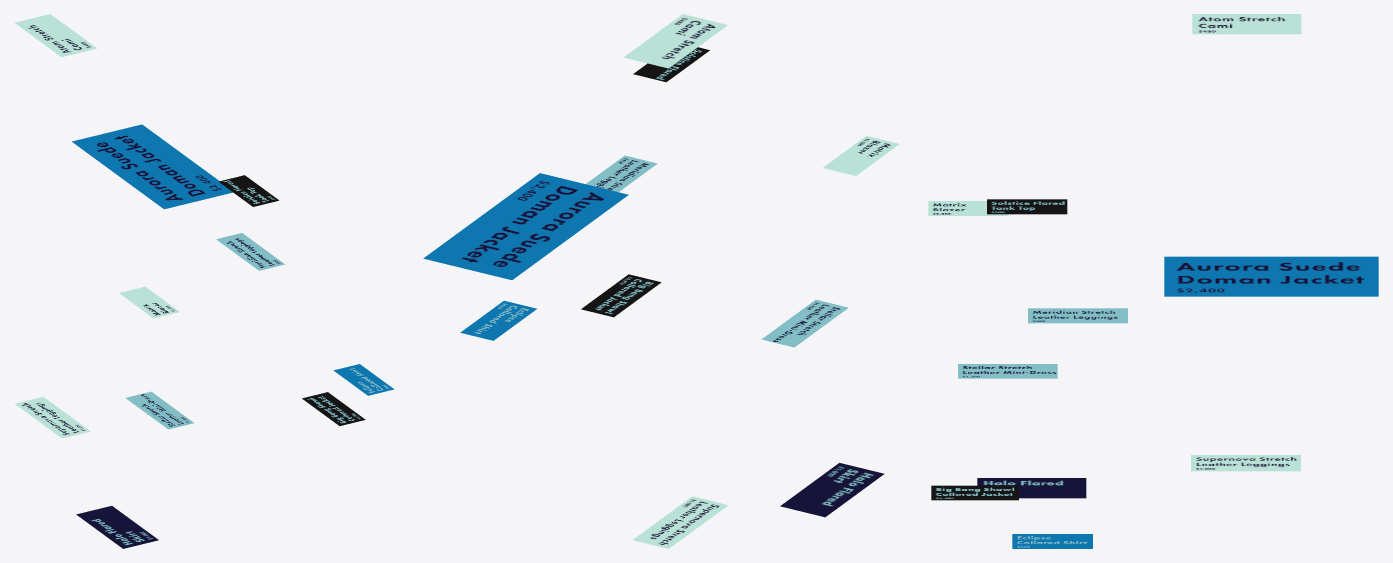
The model's file is Look Labels.fbx.
3 views of the same model, side by side, from view 1: azimuth 30°, elevation 25°; view 2: azimuth 150°, elevation 25°; view 3: azimuth 270°, elevation 25° (orthographic). The views are drawn at different scales.
Visible parts, largest first — view 1: L1_1, L2_1, L1_2, L1_3, L4_1, L3_3, L4_2, L3_1, L2_2, L3_2; view 2: L1_1, L2_1, L1_2, L1_3, L4_1, L4_2, L2_2, L3_1, L3_3, L3_2; view 3: L1_1, L1_2, L1_3, L2_1, L3_3, L4_1, L4_2, L3_2, L2_2, L3_1.
Boxes of the visible parts, x1,y1,x2,y2 form: L1_1: [72, 124, 232, 209]; L2_1: [76, 506, 158, 548]; L1_2: [15, 14, 96, 57]; L1_3: [15, 396, 90, 438]; L4_1: [126, 391, 194, 429]; L3_3: [216, 233, 284, 270]; L4_2: [302, 392, 365, 425]; L3_1: [119, 286, 179, 318]; L2_2: [333, 364, 394, 395]; L3_2: [219, 175, 278, 206]; L1_1: [423, 173, 628, 279]; L2_1: [780, 463, 884, 517]; L1_2: [623, 14, 727, 68]; L1_3: [633, 496, 728, 548]; L4_1: [761, 300, 848, 347]; L4_2: [581, 274, 661, 317]; L2_2: [460, 300, 536, 340]; L3_1: [823, 136, 899, 175]; L3_3: [586, 155, 657, 191]; L3_2: [633, 47, 709, 82]; L1_1: [1164, 256, 1378, 296]; L1_2: [1192, 14, 1301, 34]; L1_3: [1191, 455, 1300, 471]; L2_1: [977, 478, 1086, 498]; L3_3: [1028, 308, 1127, 323]; L4_1: [958, 364, 1057, 378]; L4_2: [931, 485, 1018, 500]; L3_2: [987, 199, 1067, 214]; L2_2: [1012, 534, 1092, 548]; L3_1: [928, 201, 1008, 215].
Size of the model in its own units: 795 by 1102 by 935.
Materials: 10 (10 with a texture image).
